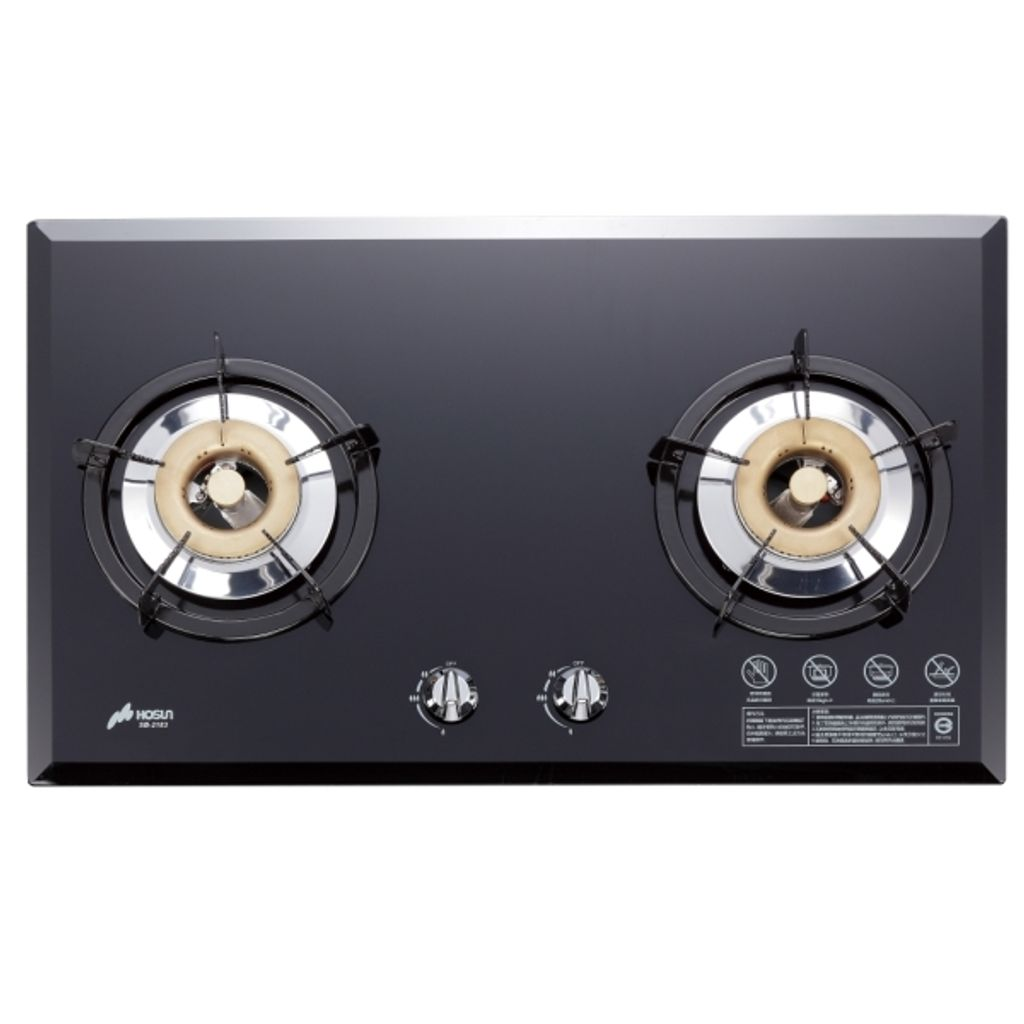gasoven: (16, 210, 1016, 797)
